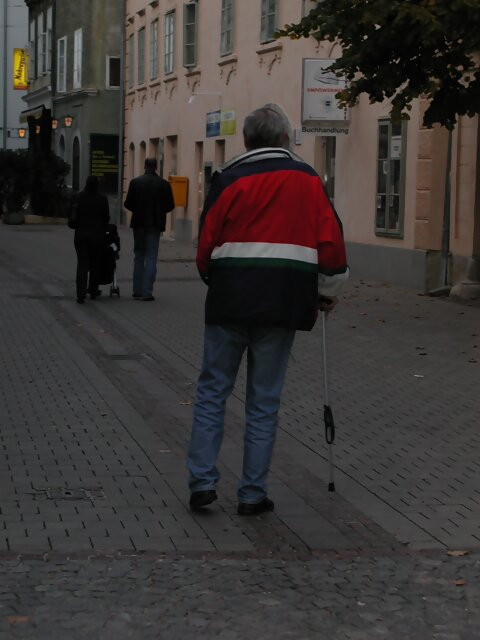person: (183, 98, 351, 520), (125, 157, 176, 297), (68, 173, 119, 304)
